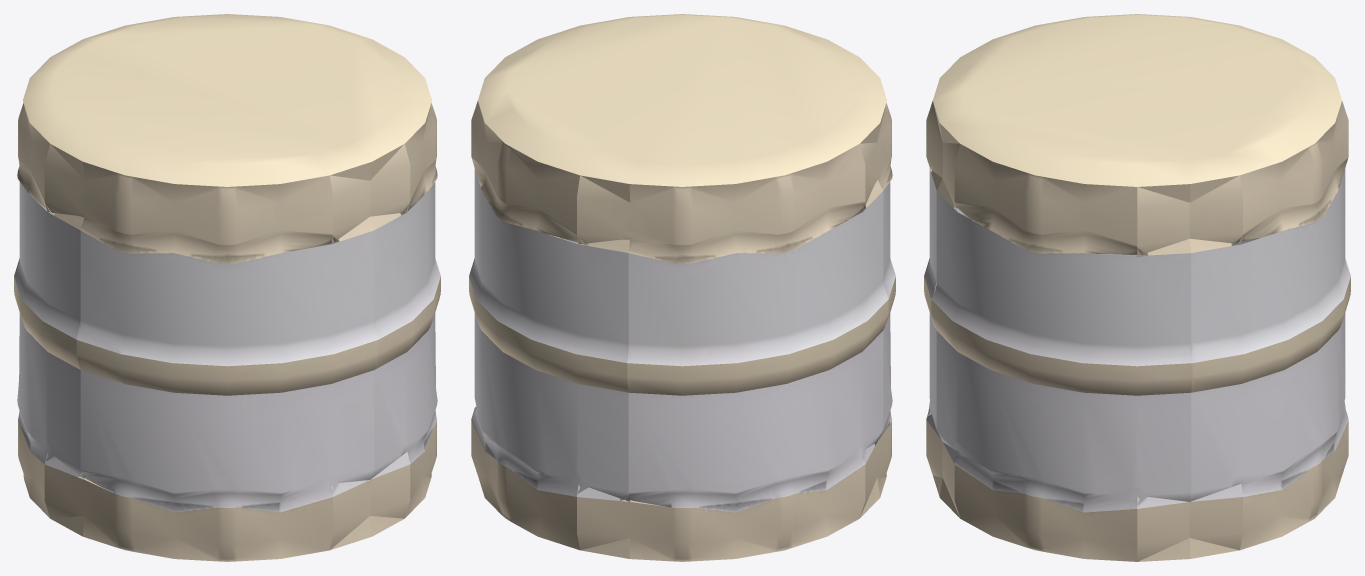
File: silindir.glb
3 renders of one model, left to right at view 1: azimuth 30°, elevation 25°; view 2: azimuth 150°, elevation 25°; view 3: azimuth 270°, elevation 25°, orthographic.
Visible parts, largest first — view 1: silindir; view 2: silindir; view 3: silindir.
Boxes of the visible parts, x1,y1,x2,y2 form: silindir: (14,14,440,561); silindir: (469,14,895,561); silindir: (924,14,1350,561).
Bounding box in the file's own units: 1.5 × 1.54 × 1.5.
1 material, 1 textured.
